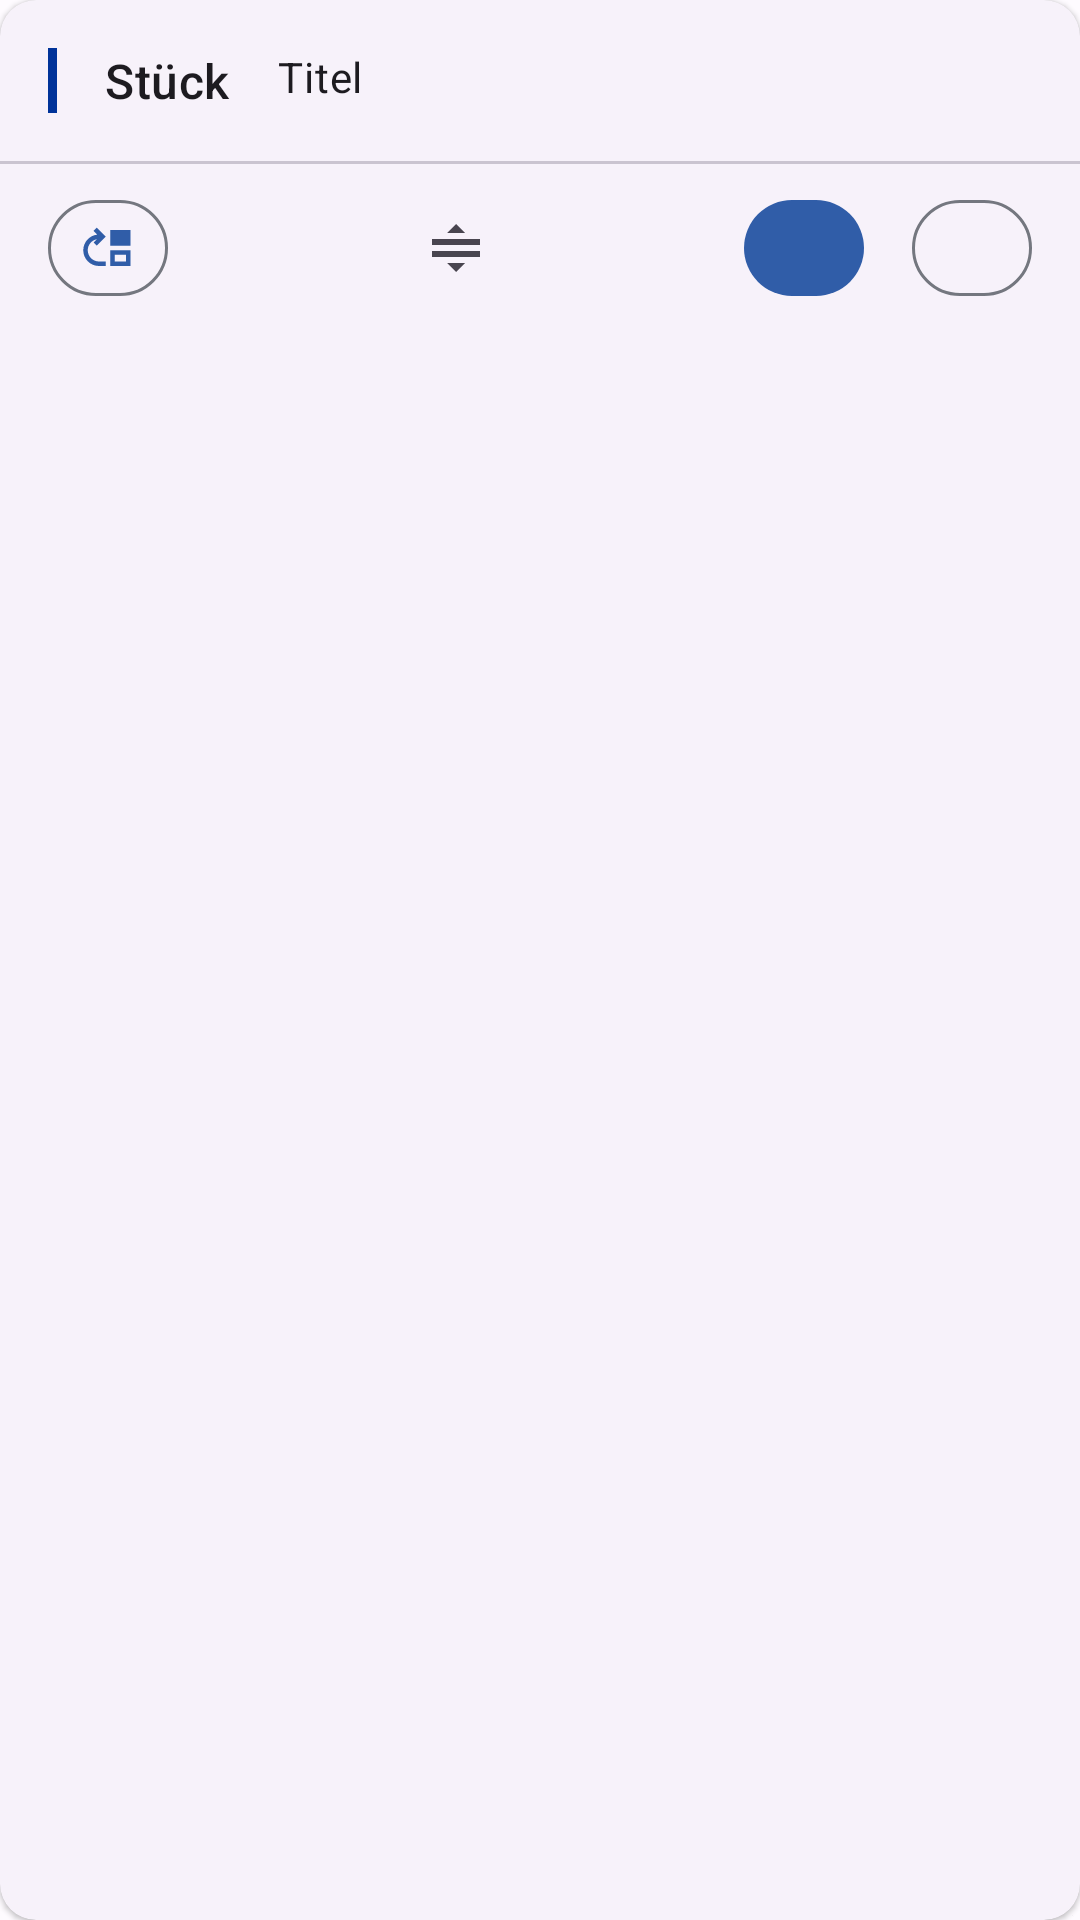

Locate icon controls on the screen. Image size 1080×1920, boxes as (x1, y1, x2, y2).
draggable: (432, 224, 480, 272)
